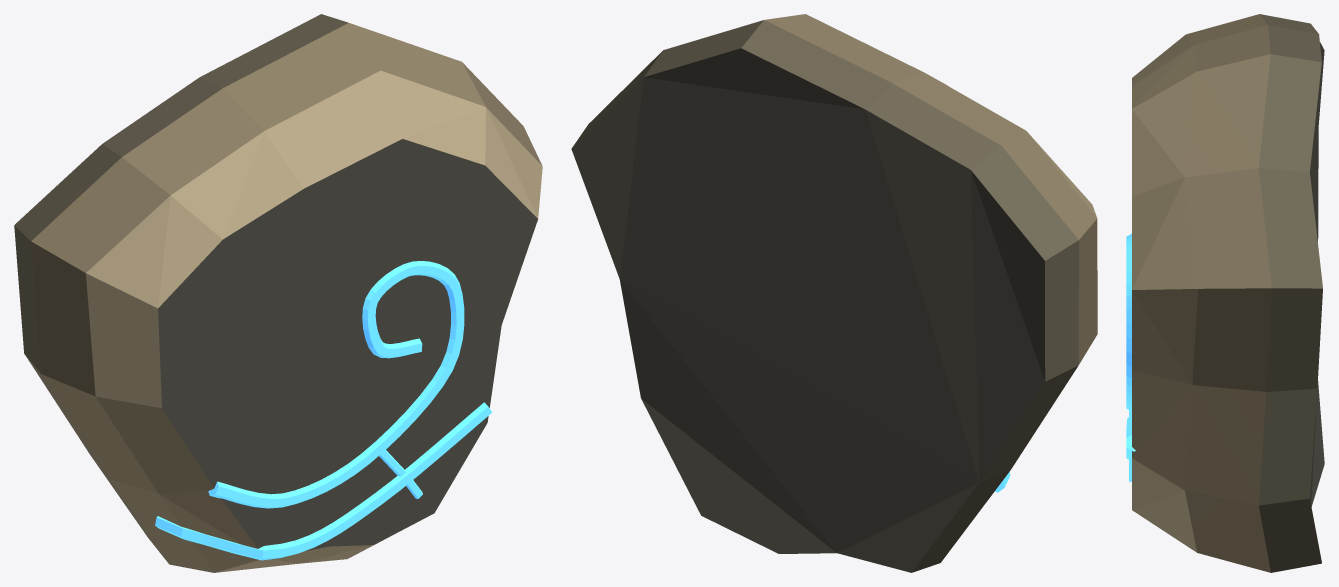
File: FERNSTONE_TIDE.hi.glb
3 views of the same model, side by side, from view 1: azimuth 30°, elevation 25°; view 2: azimuth 150°, elevation 25°; view 3: azimuth 270°, elevation 25° (orthographic).
Parts seen in each view (by area): view 1: Body_Mesh; view 2: Body_Mesh; view 3: Body_Mesh.
Boxes of the visible parts, x1,y1,x2,y2 form: Body_Mesh: (14, 14, 542, 572); Body_Mesh: (571, 14, 1097, 572); Body_Mesh: (1126, 14, 1324, 572).
Bounding box in the file's own units: 0.3023 × 0.3033 × 0.1048.
1 material, 1 textured.
